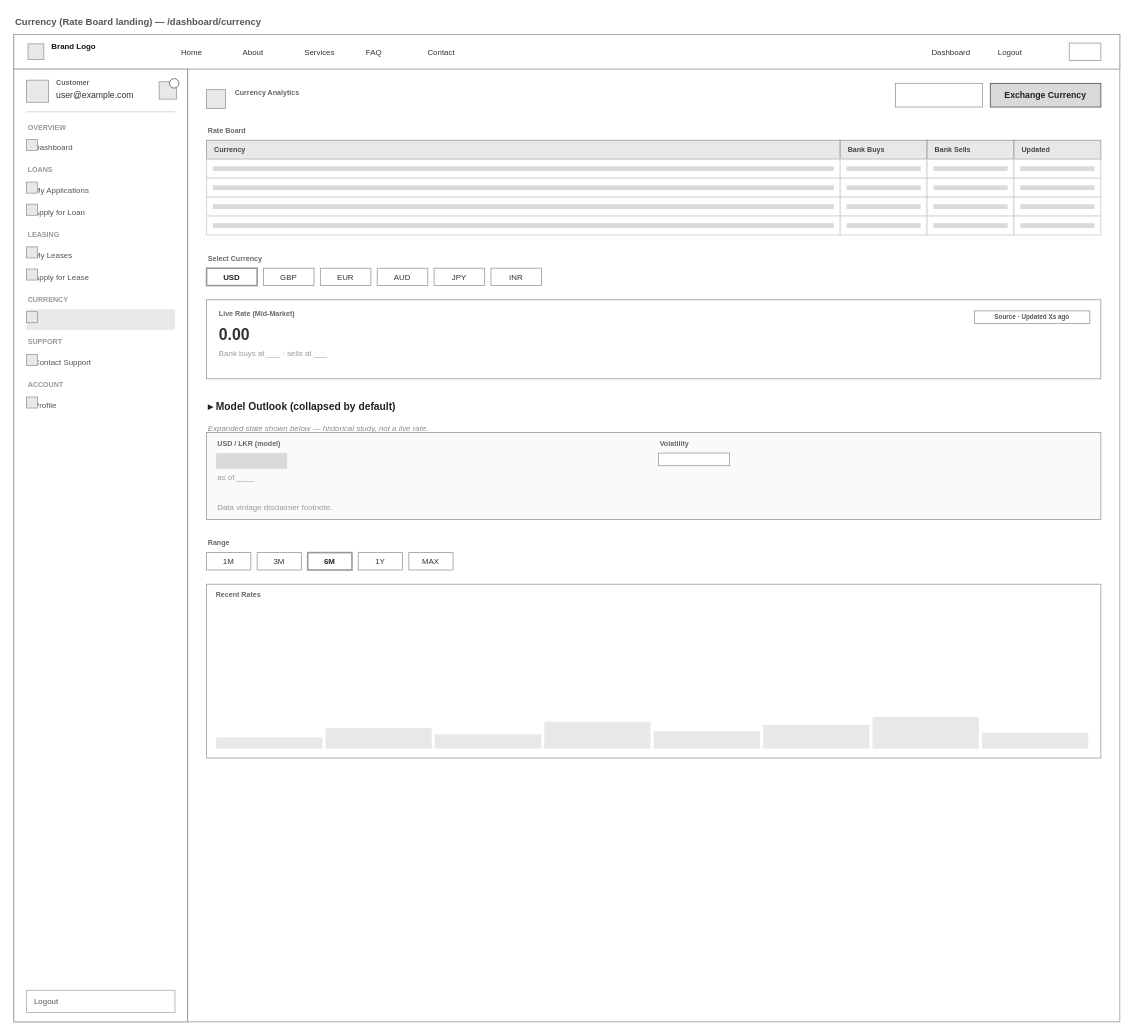
The diagram is 1134 pixels wide and 1036 high, and some of its shapes have lost their labels. The box of each missing label's shape, as (x1, y1, x2, y2) in pixels:
EN ▾: (1068, 42, 1101, 60)
Exchange Rates: (26, 309, 175, 329)
Low / Med / High: (658, 452, 730, 466)
My Requests: (895, 83, 982, 107)
